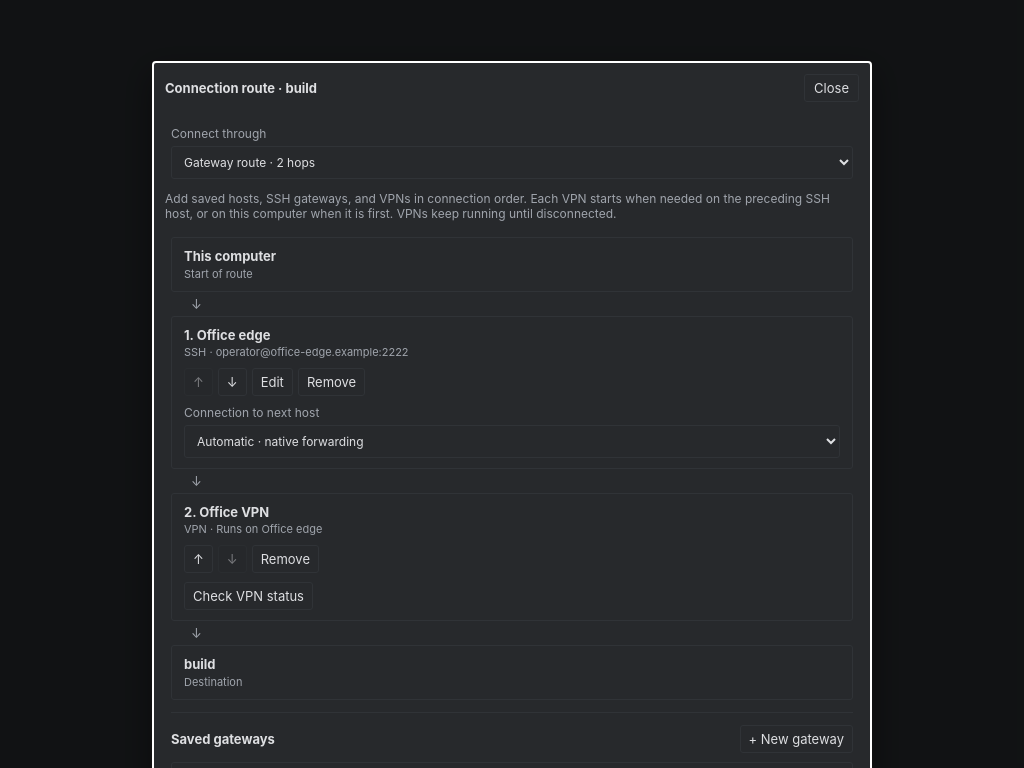
Test case: GatewayRouteDialog › keeps missing remote VPN status unknown when inventory is incomplete
Click the button "Check VPN status" at (248, 596), box [184, 582, 313, 610]
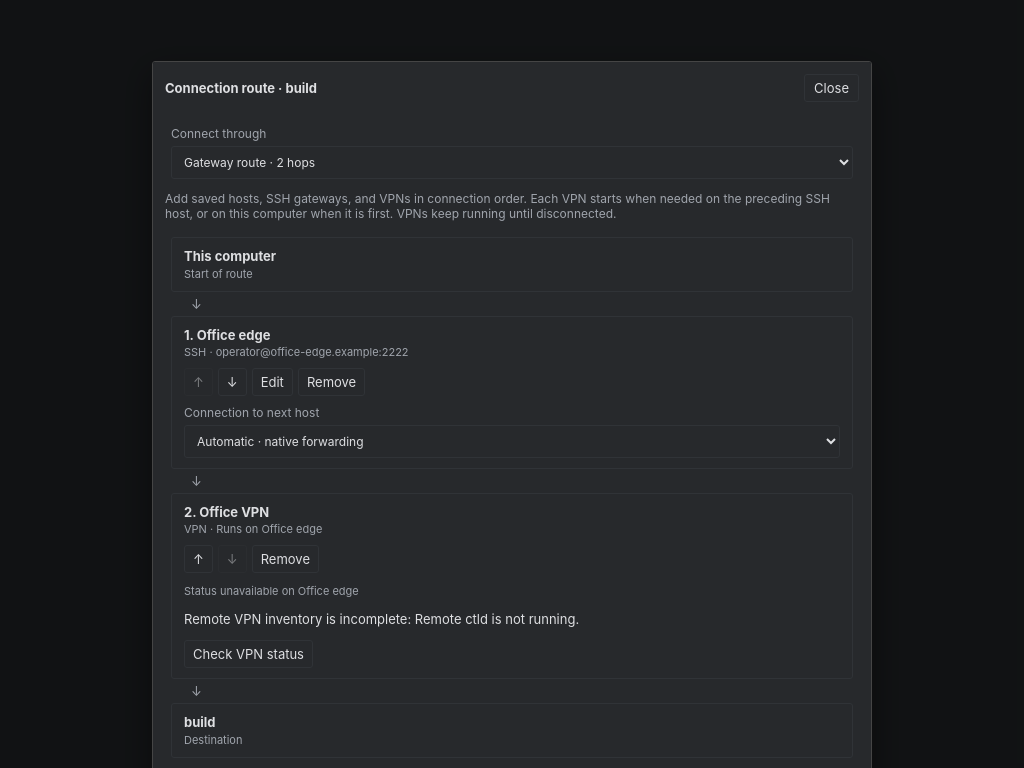
Now the text "Status unavailable on Office edge" is shown, box [184, 584, 359, 598]
Now the message shows "Remote ctld is not running", box [415, 611, 579, 627]
